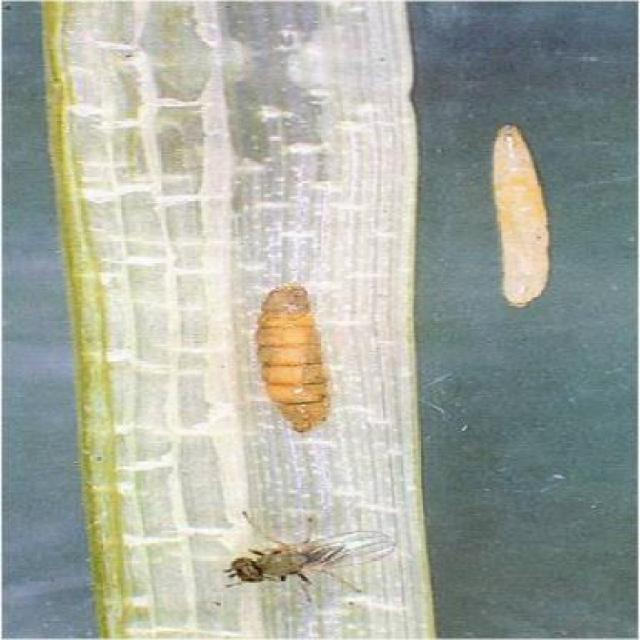whorl-maggot: (233, 272, 356, 451), (475, 110, 579, 312)
